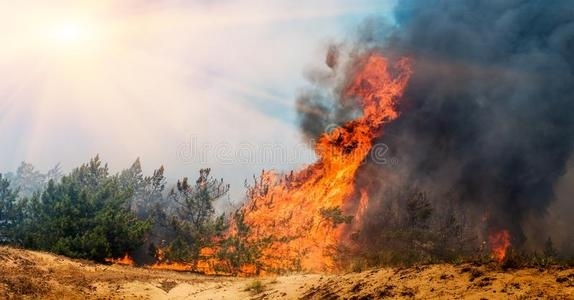fire: (188, 39, 413, 273), (476, 216, 518, 268), (103, 247, 192, 270)
